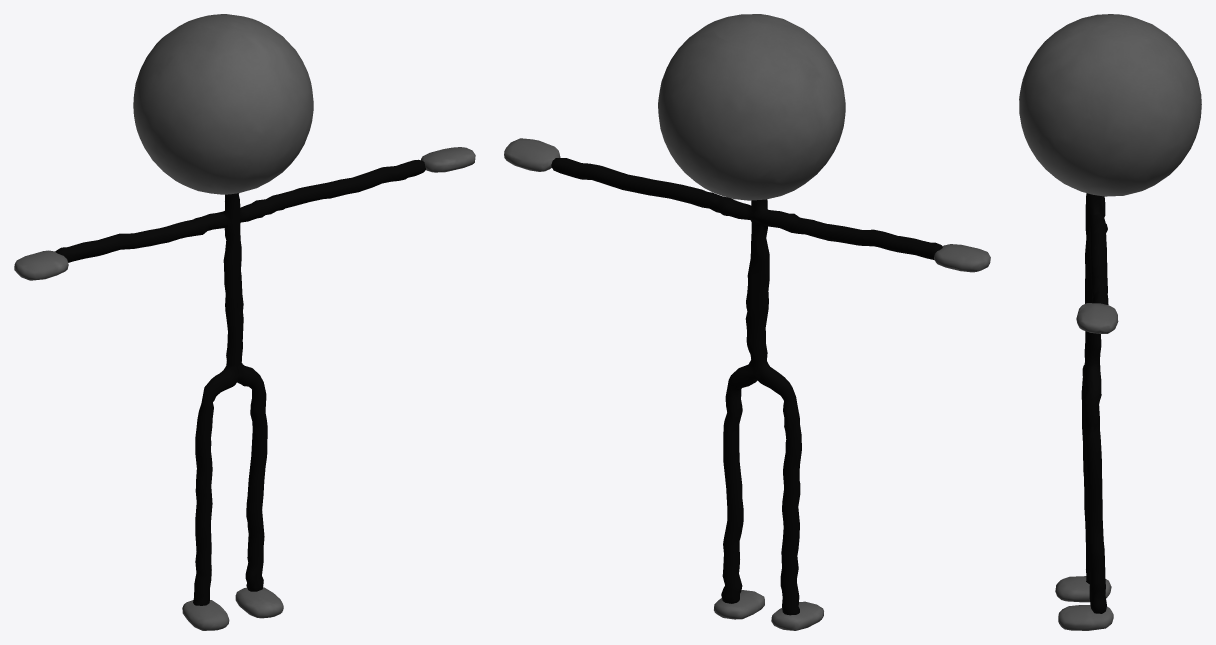
The model's file is charcoal mfer.glb.
The picture shows the model from 3 angles, left to right: view 1: azimuth 30°, elevation 25°; view 2: azimuth 150°, elevation 25°; view 3: azimuth 270°, elevation 25°; orthographic projection. The views are drawn at different scales.
Visible parts, largest first — view 1: type_charcoal.002; view 2: type_charcoal.002; view 3: type_charcoal.002.
Boxes of the visible parts, x1=… form: type_charcoal.002: x1=14, y1=14, x2=475, y2=630; type_charcoal.002: x1=504, y1=14, x2=990, y2=630; type_charcoal.002: x1=1019, y1=14, x2=1201, y2=630.
Size of the model in its own units: 0.9749 by 1.19 by 0.3321.
Materials: 3 (3 with a texture image).
